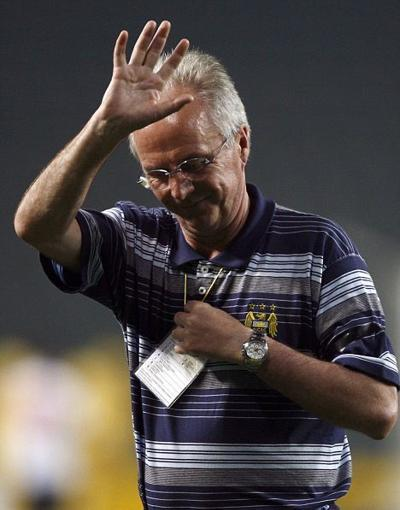person: (15, 19, 400, 510)
